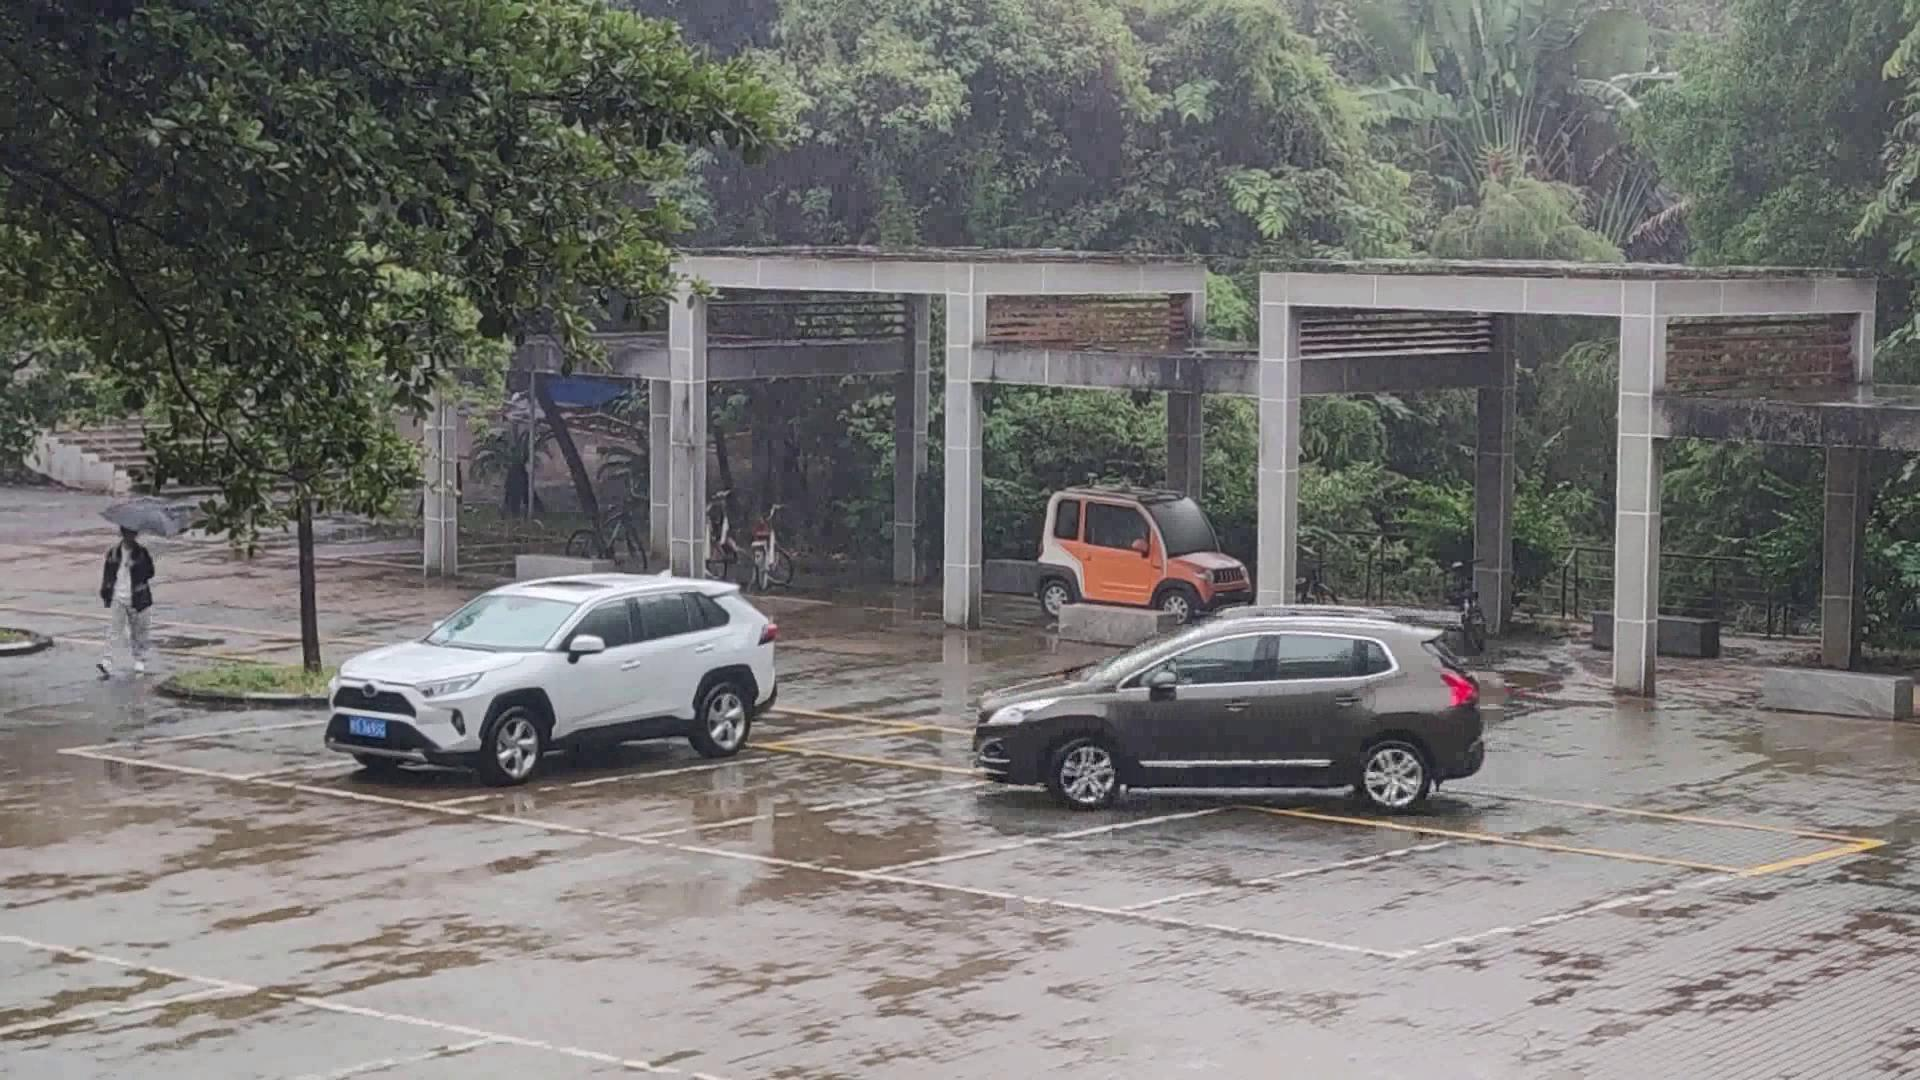space-empty: (1129, 822, 1747, 967), (866, 795, 1466, 924), (644, 781, 1221, 877), (421, 760, 1004, 837)
space-occupied: (251, 742, 799, 814)
